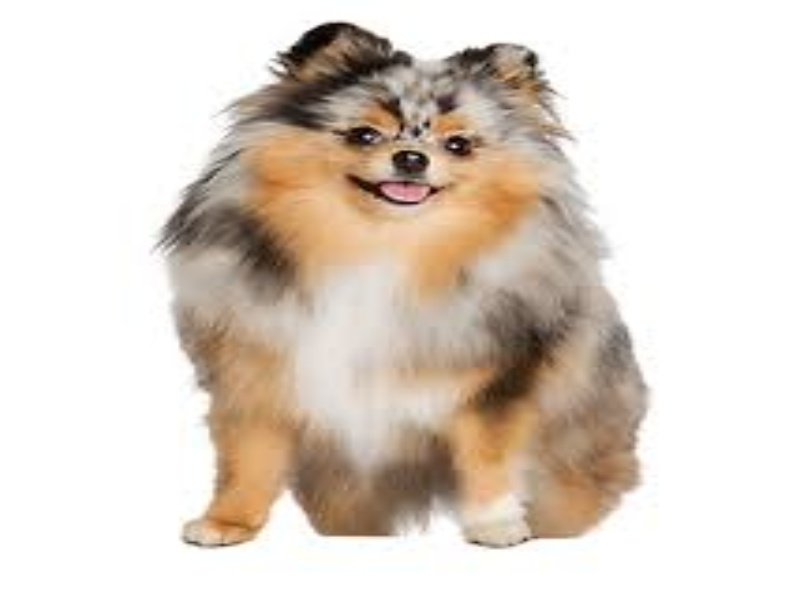dog: (125, 20, 709, 554)
